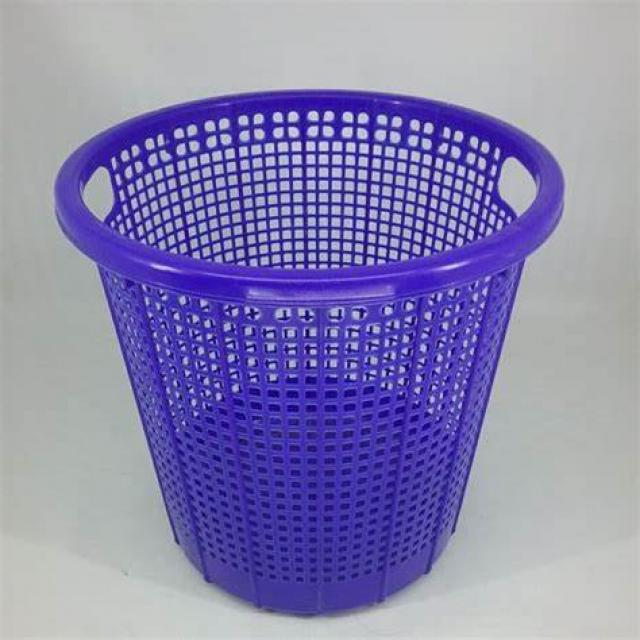garbage container: (48, 71, 586, 624)
